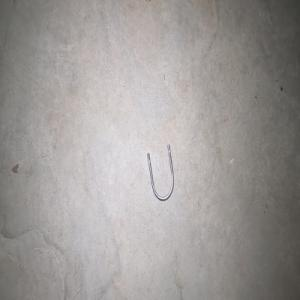ClampPart: (146, 143, 174, 201)
